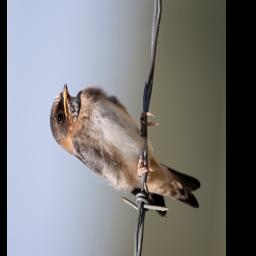Swallow: (42, 79, 207, 222)
